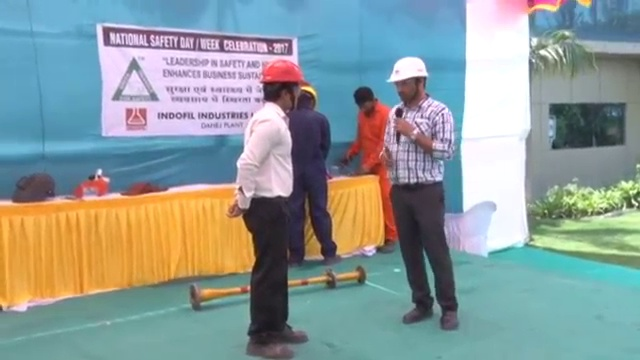helmet: (260, 58, 312, 85), (383, 55, 431, 84), (299, 83, 319, 102)
helmet_off: (353, 86, 377, 115)
helmet_on: (258, 57, 310, 115), (382, 54, 431, 108), (297, 84, 320, 113)
person: (228, 58, 310, 356), (382, 55, 460, 329), (289, 84, 343, 265), (345, 84, 398, 254)
